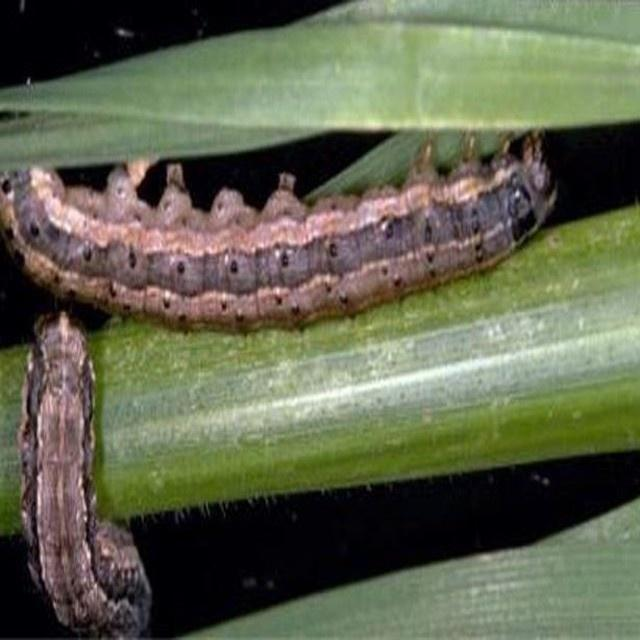gusano_cogollero: (0, 135, 562, 332)
